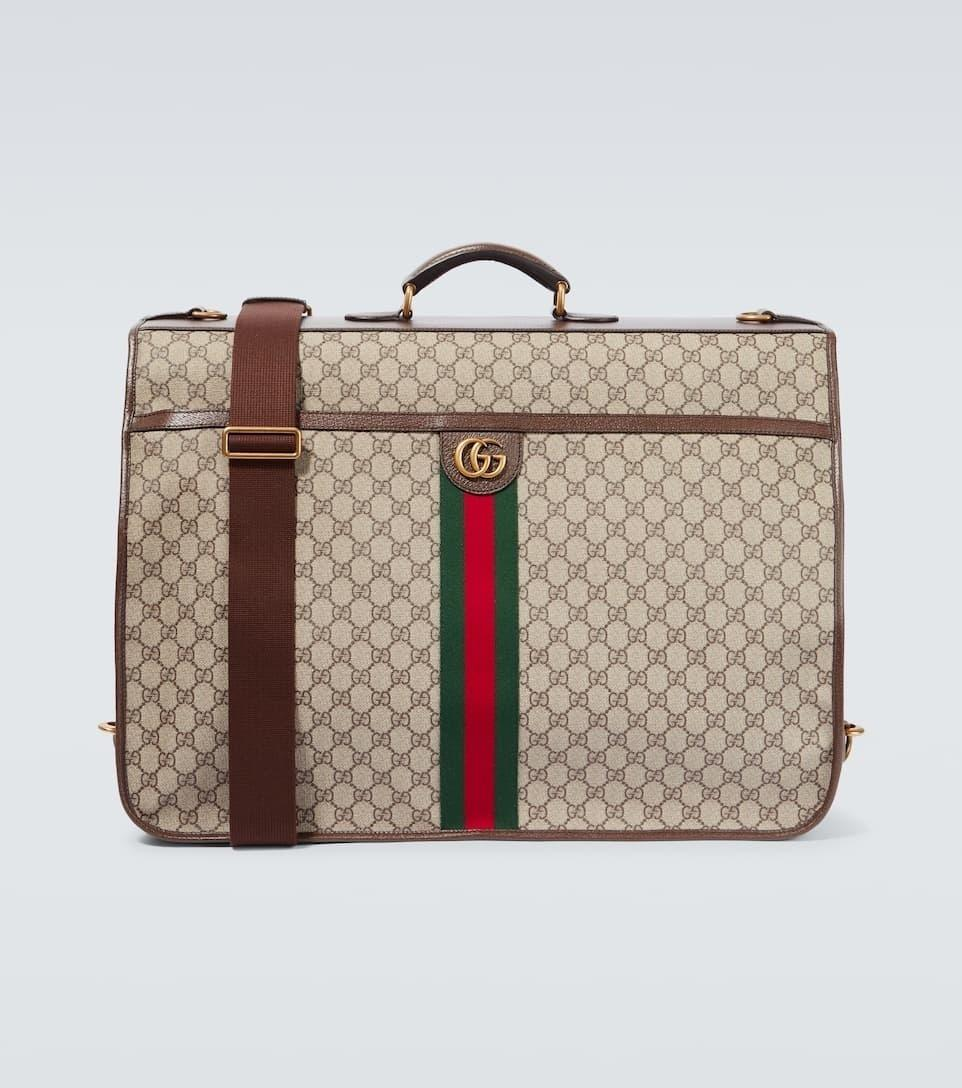GUCCI: (454, 438, 506, 480)
